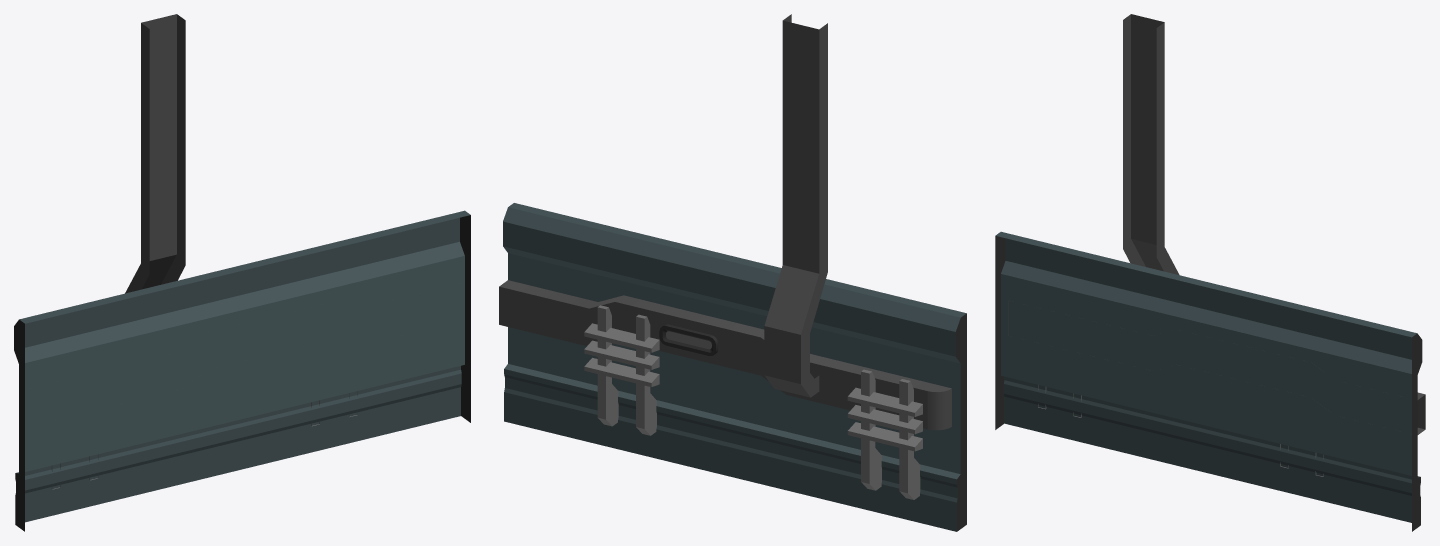
The model's file is SM_wall_front_04.fbx.
The picture shows the model from 3 angles, left to right: view 1: azimuth 30°, elevation 25°; view 2: azimuth 150°, elevation 25°; view 3: azimuth 330°, elevation 25°; orthographic projection. The views are drawn at different scales.
Visible parts, largest first — view 1: SM_wall_front_04; view 2: SM_wall_front_04; view 3: SM_wall_front_04.
Part boxes in pixels (bbox=[...]): SM_wall_front_04: bbox=[14, 14, 470, 531]; SM_wall_front_04: bbox=[499, 14, 966, 531]; SM_wall_front_04: bbox=[995, 14, 1425, 531].
Bounding box in the file's own units: 300 × 300 × 38.14.
2 materials, 2 textured.
